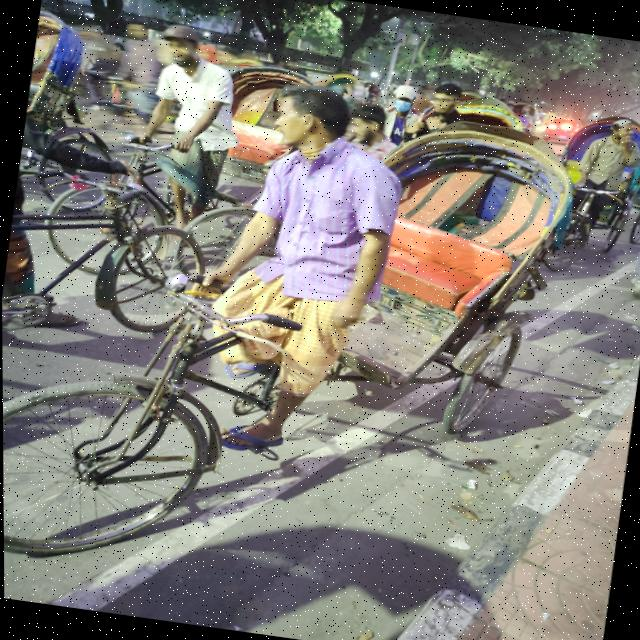rikshaw: (0, 84, 582, 639), (45, 20, 337, 322)
